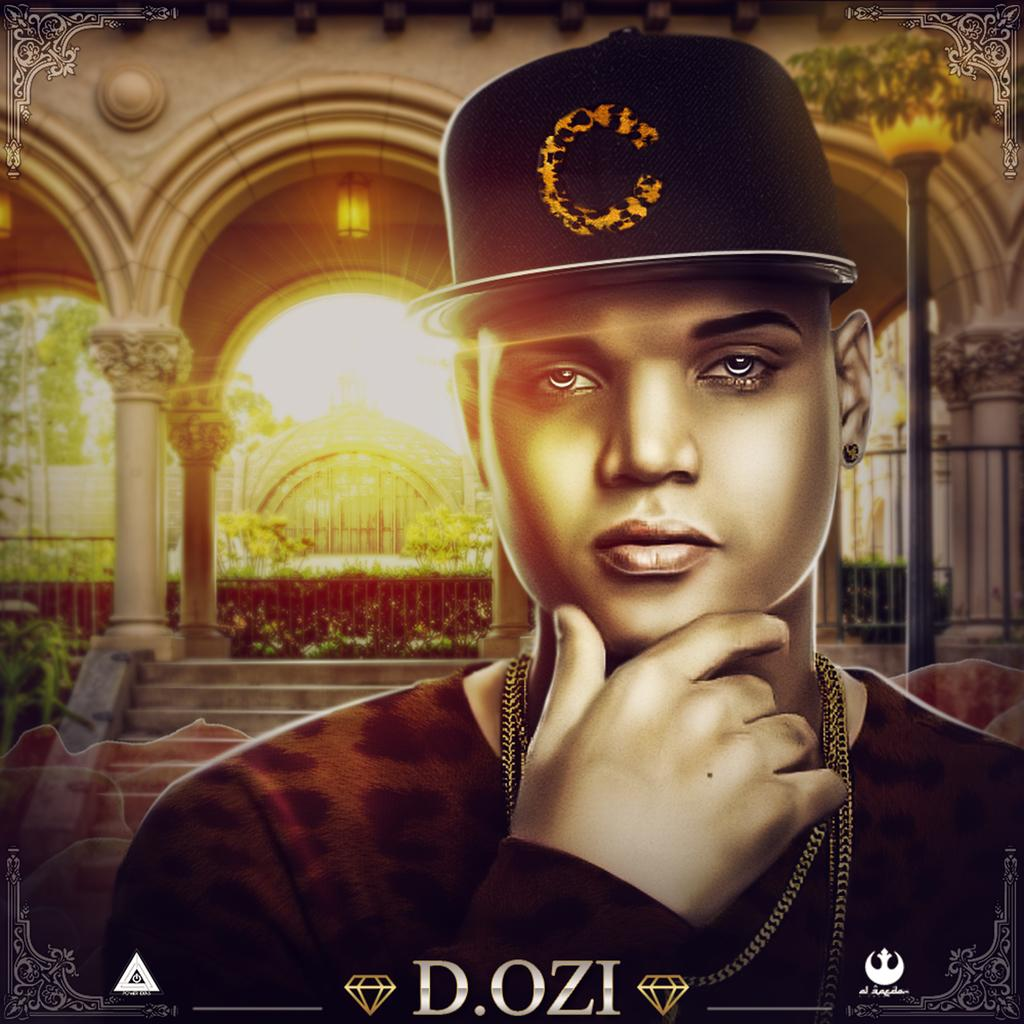Hat: (402, 22, 854, 346)
